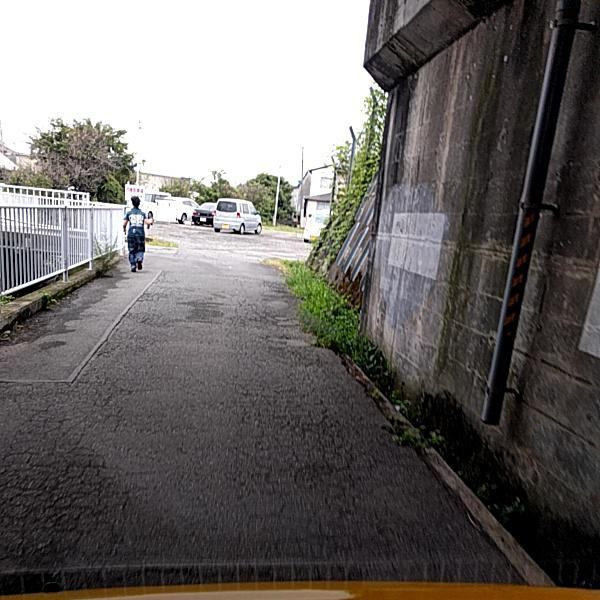D20: (10, 340, 451, 599)
